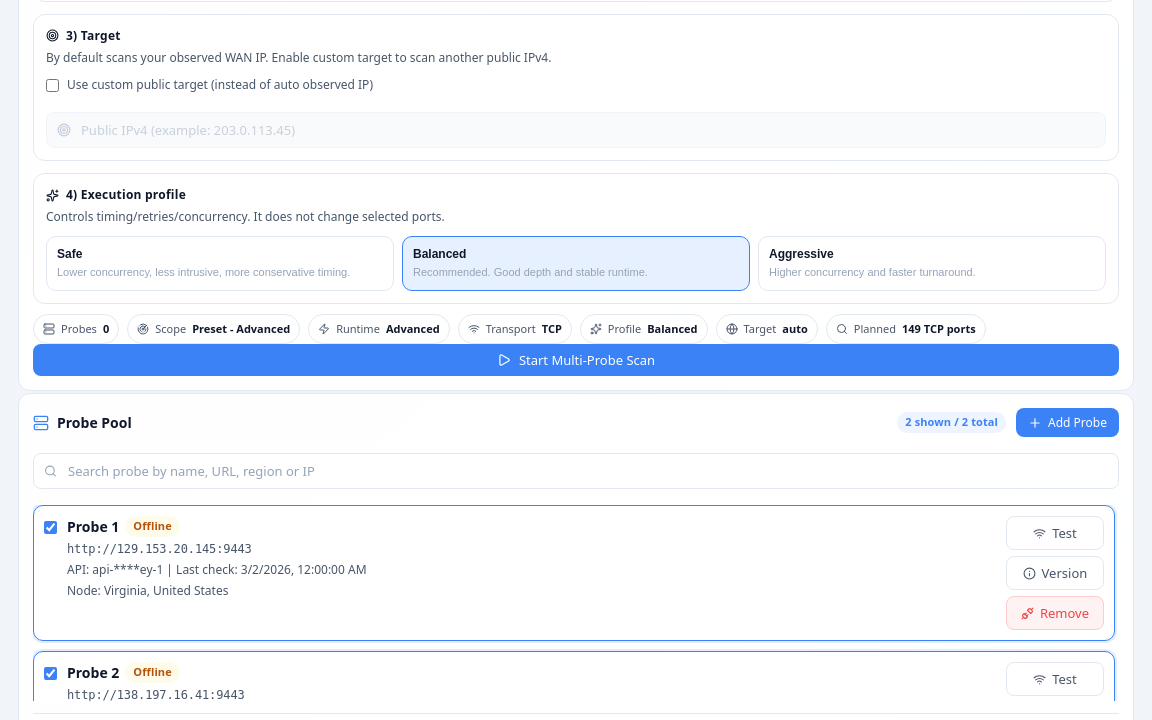
Test: WanProbe scan flow › blocks scan when selected probes are disconnected
(page scrolled)
Expected: the text "2 shown / 2 total" is shown, [897,412,1006,432]
Click the button "Start Multi-Probe Scan" at (576, 360), box [33,344,1119,376]
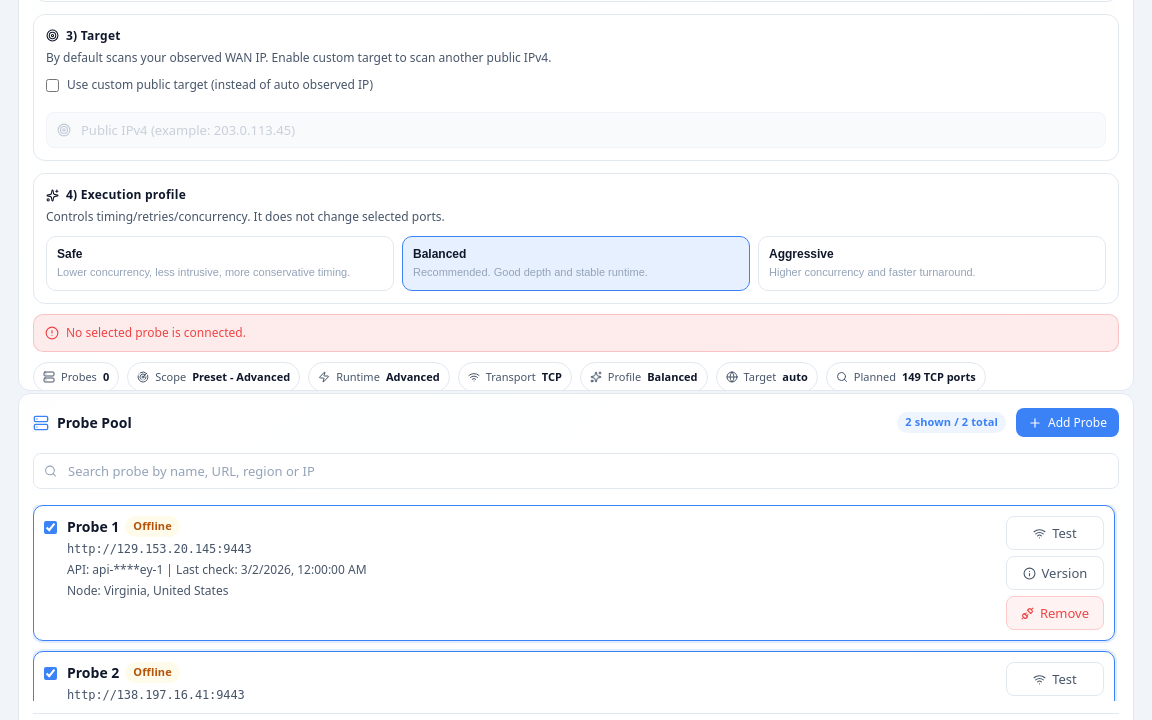
Result: the text "No selected probe is connected." is shown at [33,313,1119,351]
